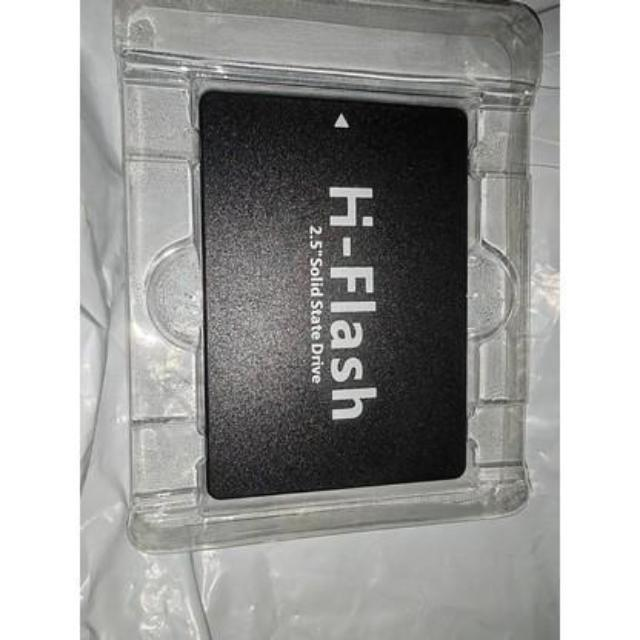DISK: (190, 82, 472, 498)
